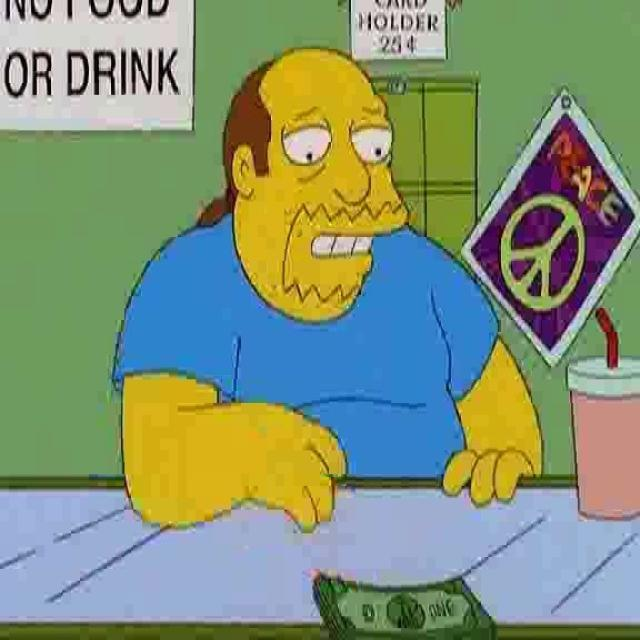Comic Book Guy: (199, 44, 414, 329)
